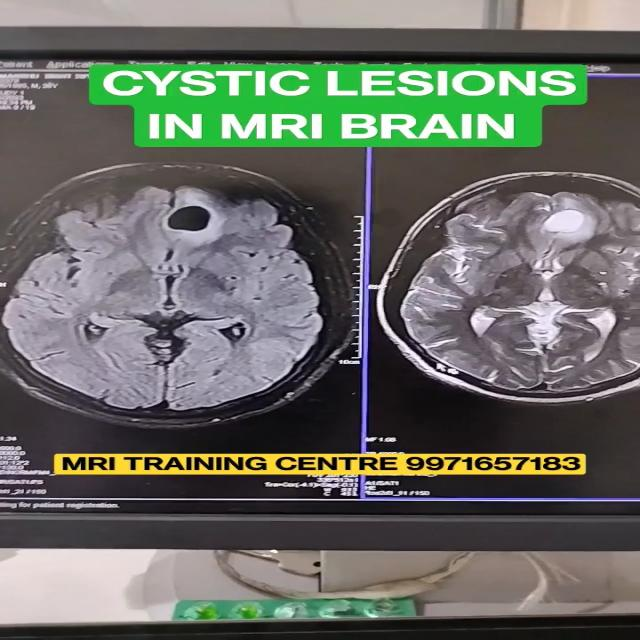tumor: (152, 195, 261, 262), (537, 222, 606, 261)
